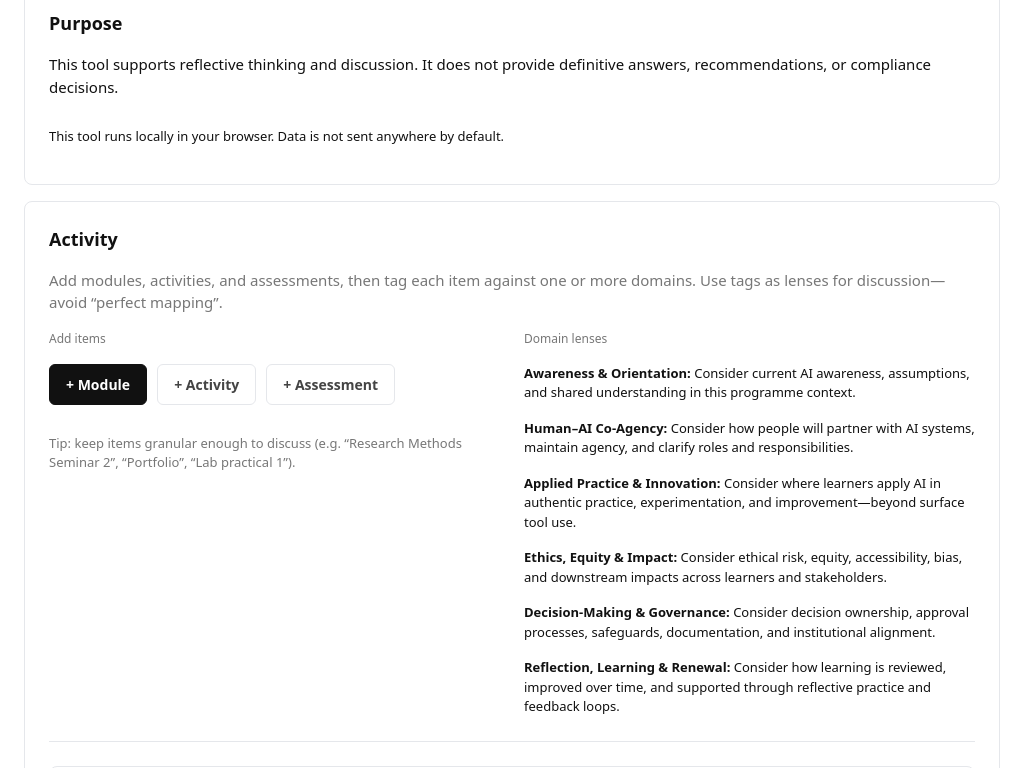
Test: AI Capability Programme Mapping — Regression Tests › 3. Map items CRUD and intensity weighting › can add Activity and Assessment items
The image size is (1024, 768).
(page scrolled)
Step 1. Click the button "+ Activity" → (207, 384), box [157,364,256,404]
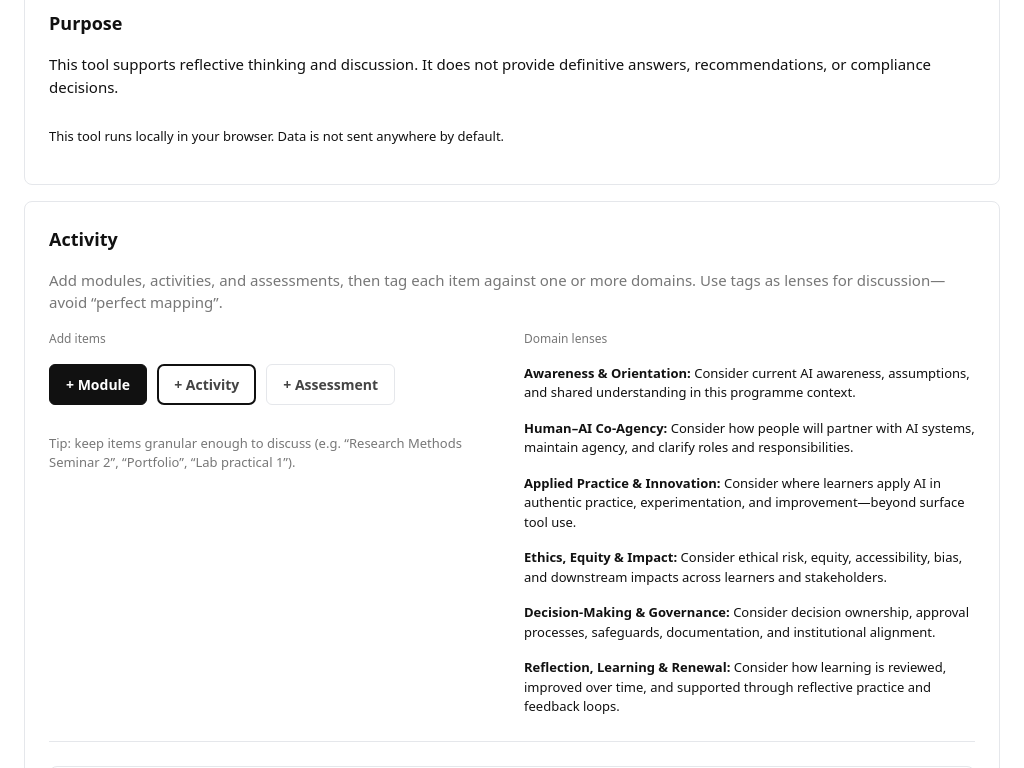
Step 2. Click the button "+ Assessment" → (331, 384), box [266,364,395,404]
(page scrolled)
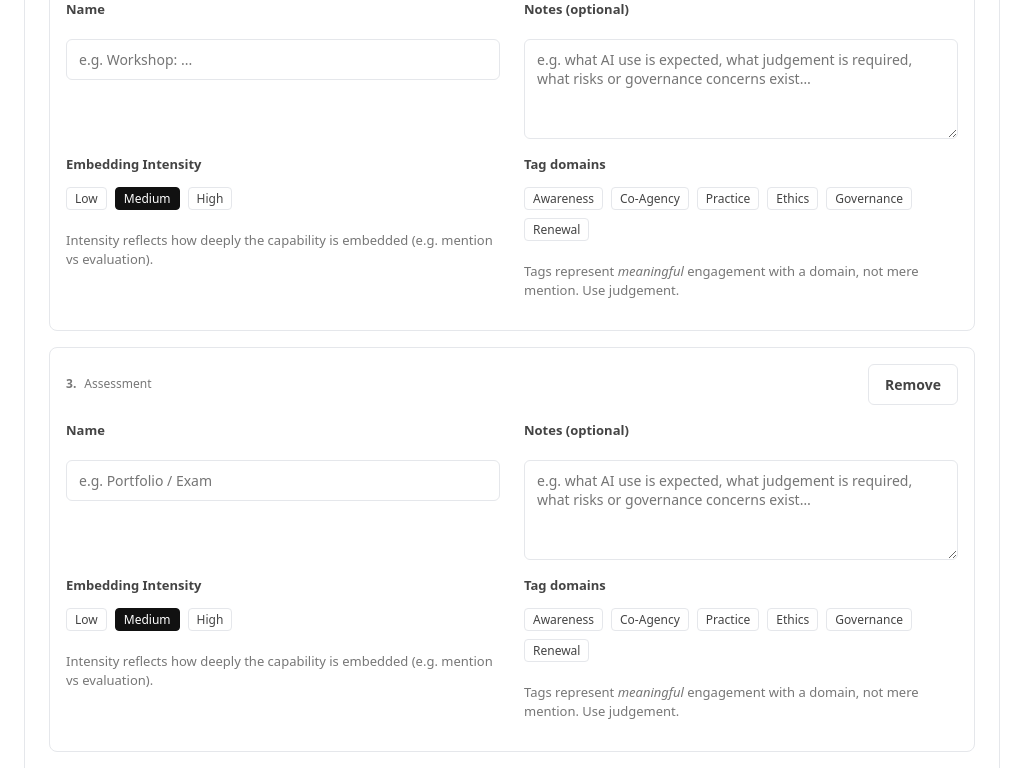
Expected: the text "Assessment" is shown, [84,375,152,393]
